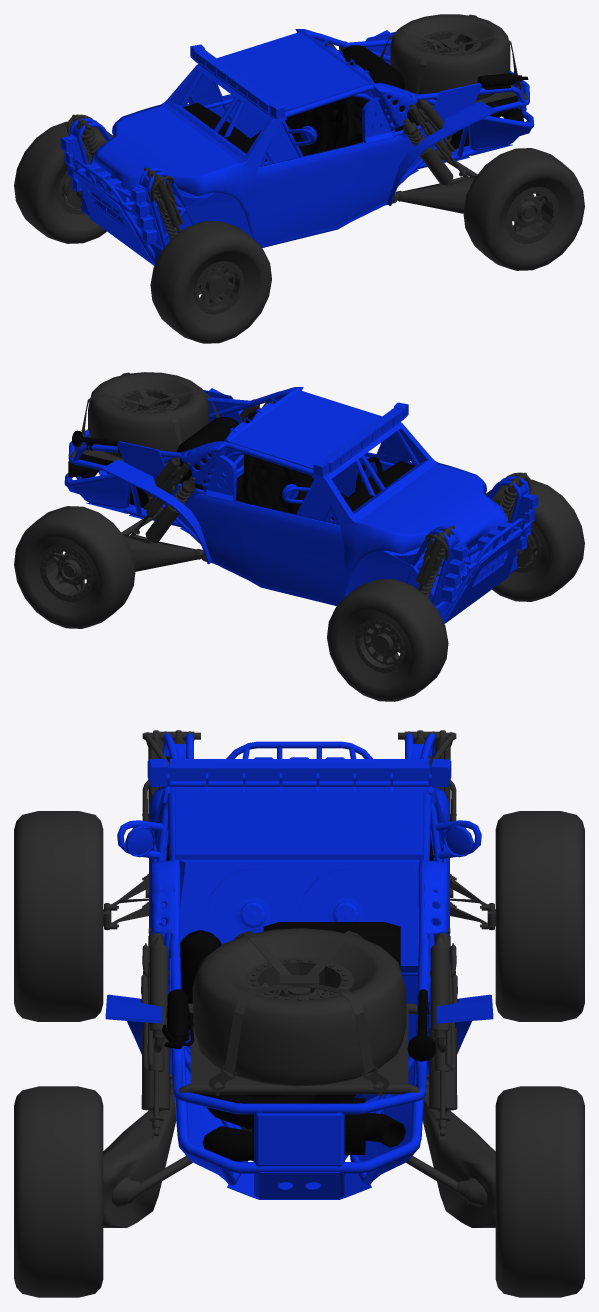
File: SubaruFBX.fbx
3 renders of one model, top to bottom at view 1: azimuth 30°, elevation 25°; view 2: azimuth 150°, elevation 25°; view 3: azimuth 270°, elevation 25°, orthographic. The views are drawn at different scales.
Parts seen in each view (by area): view 1: Subaru:Subaru:Body_and_Lights, Subaru:Subaru:Wheels_Suspension_Axles, Subaru:Subaru:Engine_and_Interior; view 2: Subaru:Subaru:Body_and_Lights, Subaru:Subaru:Wheels_Suspension_Axles, Subaru:Subaru:Engine_and_Interior; view 3: Subaru:Subaru:Wheels_Suspension_Axles, Subaru:Subaru:Body_and_Lights, Subaru:Subaru:Engine_and_Interior.
Boxes of the visible parts, x1=… form: Subaru:Subaru:Body_and_Lights: x1=60, y1=29, x2=534, y2=265; Subaru:Subaru:Wheels_Suspension_Axles: x1=14, y1=14, x2=584, y2=343; Subaru:Subaru:Engine_and_Interior: x1=183, y1=45, x2=528, y2=161; Subaru:Subaru:Body_and_Lights: x1=64, y1=387, x2=538, y2=623; Subaru:Subaru:Wheels_Suspension_Axles: x1=14, y1=372, x2=584, y2=701; Subaru:Subaru:Engine_and_Interior: x1=68, y1=411, x2=414, y2=519; Subaru:Subaru:Wheels_Suspension_Axles: x1=14, y1=730, x2=584, y2=1297; Subaru:Subaru:Body_and_Lights: x1=105, y1=731, x2=493, y2=1199; Subaru:Subaru:Engine_and_Interior: x1=162, y1=840, x2=435, y2=1161.
Size of the model in its own units: 24.17 by 10.42 by 15.96.
